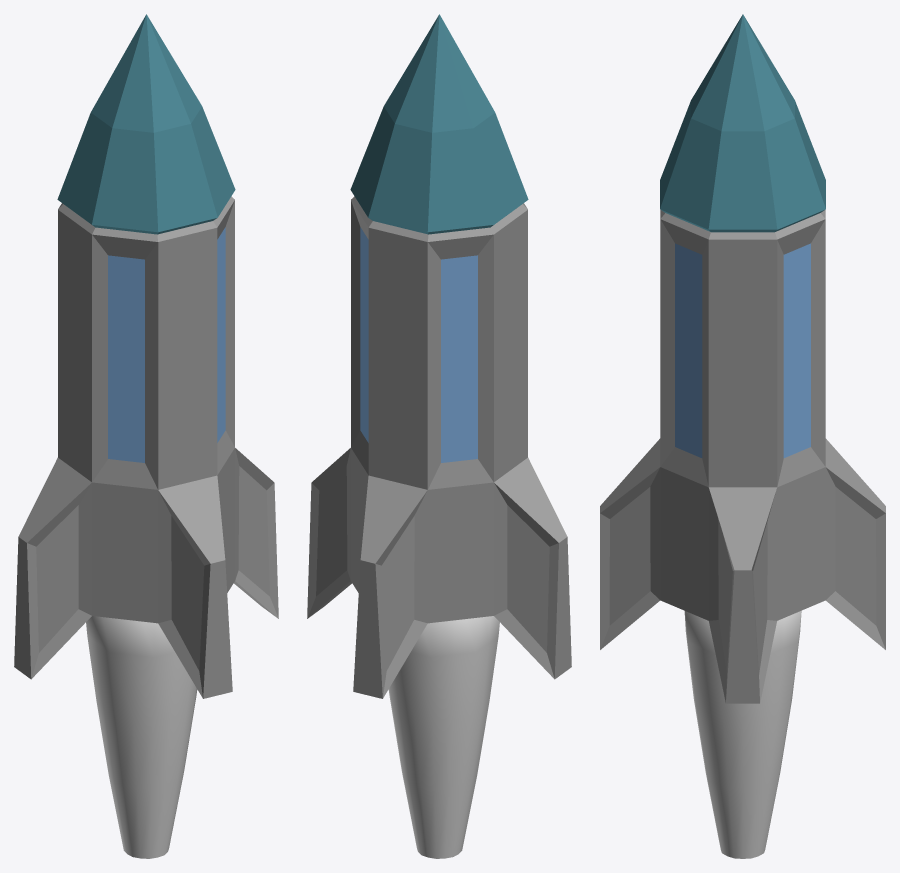
File: Rocket.fbx
3 renders of one model, left to right at view 1: azimuth 30°, elevation 25°; view 2: azimuth 150°, elevation 25°; view 3: azimuth 270°, elevation 25°, orthographic.
Visible parts, largest first — view 1: Cylinder, RocketBooster; view 2: Cylinder, RocketBooster; view 3: Cylinder, RocketBooster.
Boxes of the visible parts, x1=… form: Cylinder: x1=14, y1=14, x2=278, y2=698; RocketBooster: x1=86, y1=616, x2=197, y2=858; Cylinder: x1=307, y1=14, x2=571, y2=698; RocketBooster: x1=388, y1=616, x2=499, y2=858; Cylinder: x1=600, y1=14, x2=885, y2=703; RocketBooster: x1=684, y1=610, x2=801, y2=858.
Size of the model in its own units: 100 by 323 by 100.
